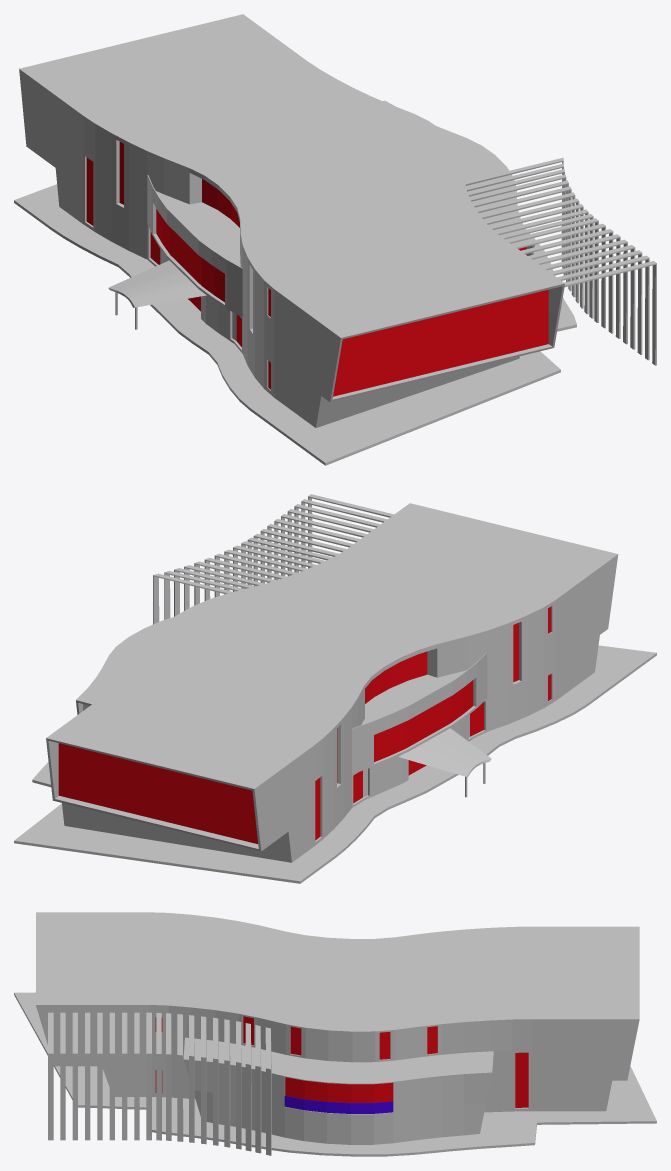
Rendered from SM_infrastructure_buildings_019.gltf.
3 renders of one model, top to bottom at view 1: azimuth 30°, elevation 25°; view 2: azimuth 150°, elevation 25°; view 3: azimuth 270°, elevation 25°, orthographic. The views are drawn at different scales.
Visible parts, largest first — view 1: infrastructure_buildings_019; view 2: infrastructure_buildings_019; view 3: infrastructure_buildings_019.
Boxes of the visible parts, <box> form: infrastructure_buildings_019: <box>14,14,656,465</box>; infrastructure_buildings_019: <box>14,494,656,883</box>; infrastructure_buildings_019: <box>14,912,656,1156</box>.
Size of the model in its own units: 46 by 12.3 by 76.
